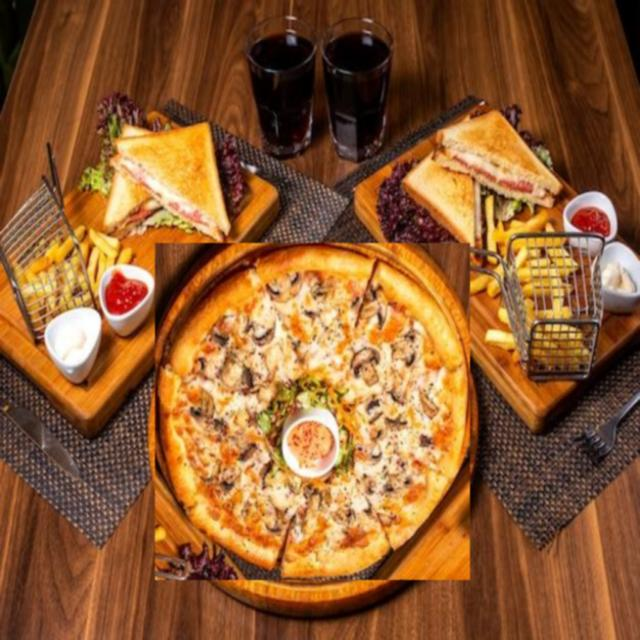pizza: (156, 243, 472, 580)
